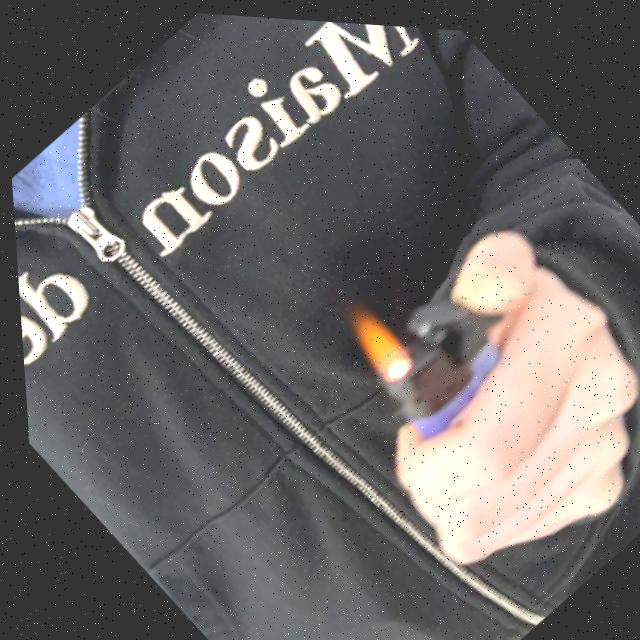Fire: (329, 295, 416, 384)
